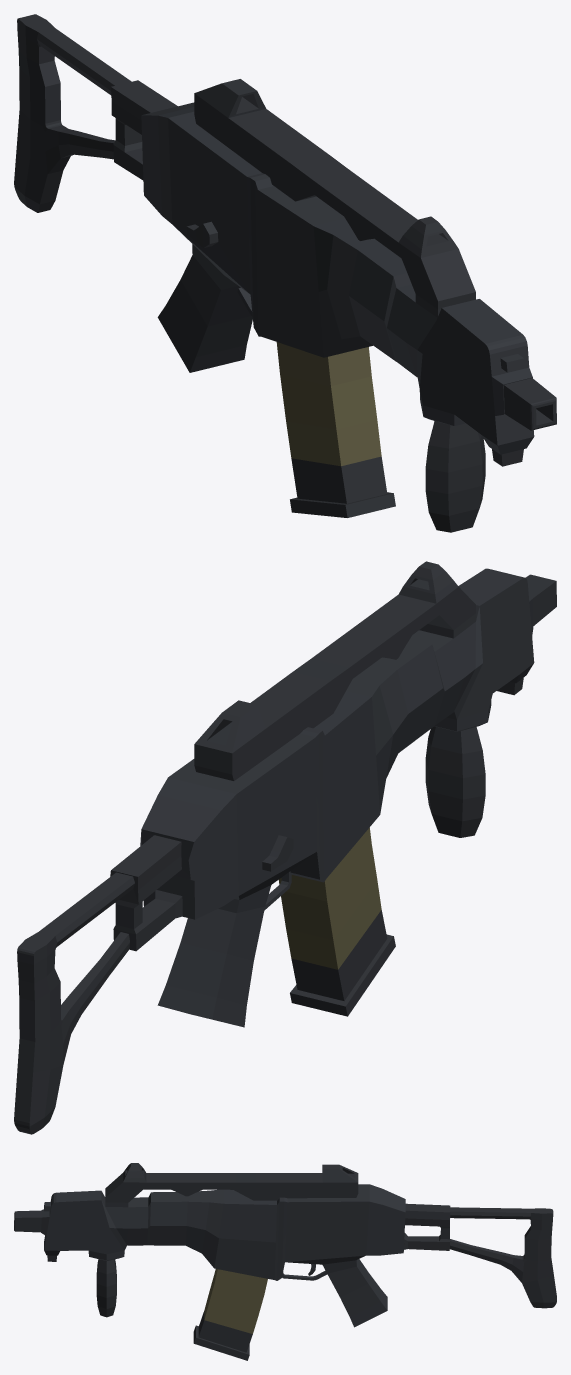
Rendered from gun.fbx.
3 renders of one model, top to bottom at view 1: azimuth 30°, elevation 25°; view 2: azimuth 150°, elevation 25°; view 3: azimuth 270°, elevation 25°, orthographic. The views are drawn at different scales.
Parts seen in each view (by area): view 1: Plane.005; view 2: Plane.005; view 3: Plane.005.
Boxes of the visible parts, <box> form: Plane.005: <box>14,14,556,532</box>; Plane.005: <box>14,561,556,1134</box>; Plane.005: <box>14,1163,556,1360</box>.
Bounding box in the file's own units: 11.01 × 48.35 × 126.
